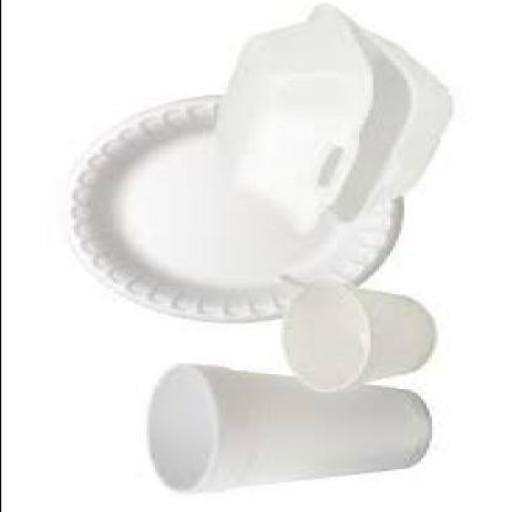paper: (61, 99, 403, 326), (207, 6, 448, 230), (145, 368, 431, 494), (282, 286, 434, 392)
